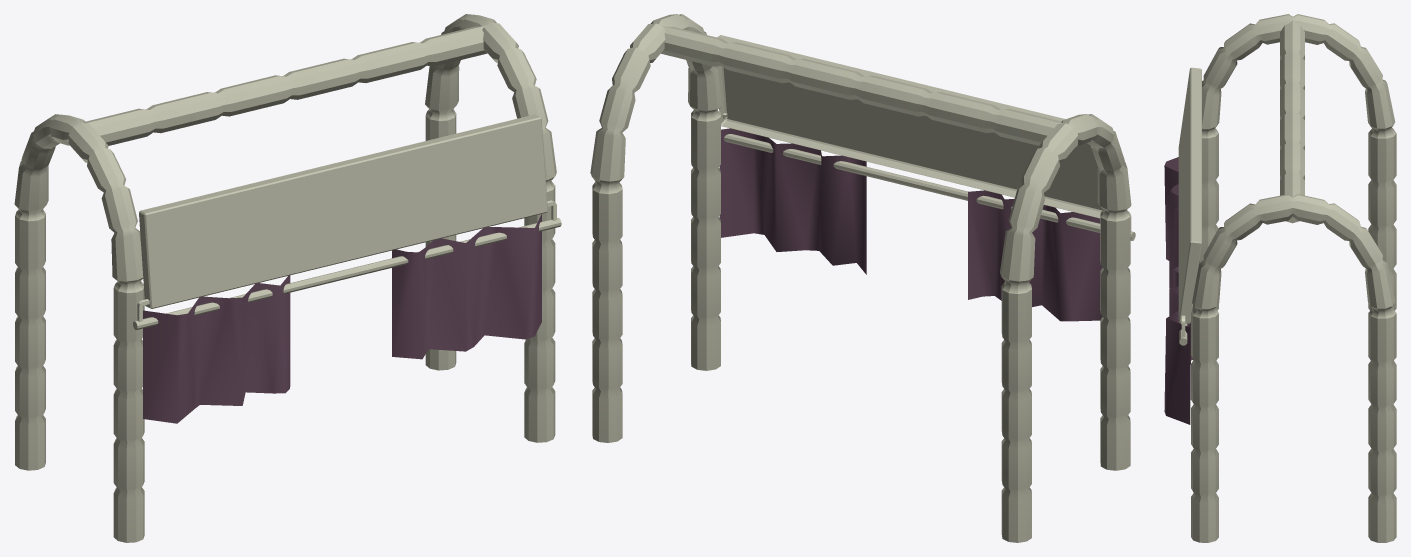
File: casa de sucubo.fbx
3 views of the same model, side by side, from view 1: azimuth 30°, elevation 25°; view 2: azimuth 150°, elevation 25°; view 3: azimuth 270°, elevation 25° (orthographic). The views are drawn at different scales.
Visible parts, largest first — view 1: polySurface24, polySurface26, nurbsToPoly4; view 2: polySurface24, polySurface26, nurbsToPoly4; view 3: polySurface24, polySurface26, nurbsToPoly4.
Boxes of the visible parts, x1=… form: polySurface24: x1=14, y1=14, x2=556, y2=542; polySurface26: x1=133, y1=114, x2=561, y2=329; nurbsToPoly4: x1=143, y1=214, x2=541, y2=423; polySurface24: x1=590, y1=14, x2=1131, y2=542; polySurface26: x1=717, y1=35, x2=1135, y2=240; nurbsToPoly4: x1=719, y1=128, x2=1102, y2=321; polySurface24: x1=1191, y1=14, x2=1396, y2=542; polySurface26: x1=1178, y1=67, x2=1201, y2=345; nurbsToPoly4: x1=1164, y1=157, x2=1192, y2=424.
Size of the model in its own units: 1132 by 934 by 575.
